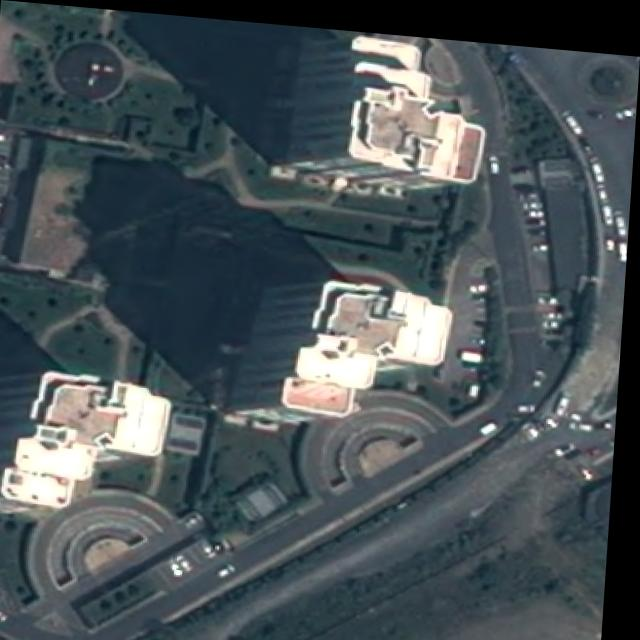Batiment: (285, 22, 485, 179), (232, 273, 455, 409), (9, 371, 175, 505)
